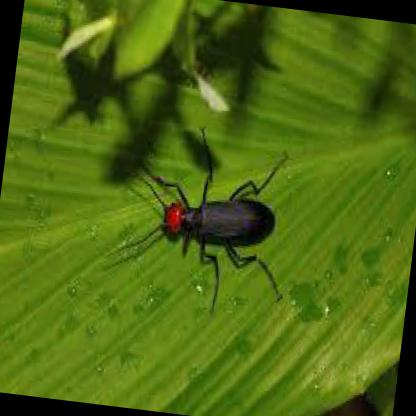blister beetle: (143, 130, 276, 284)
